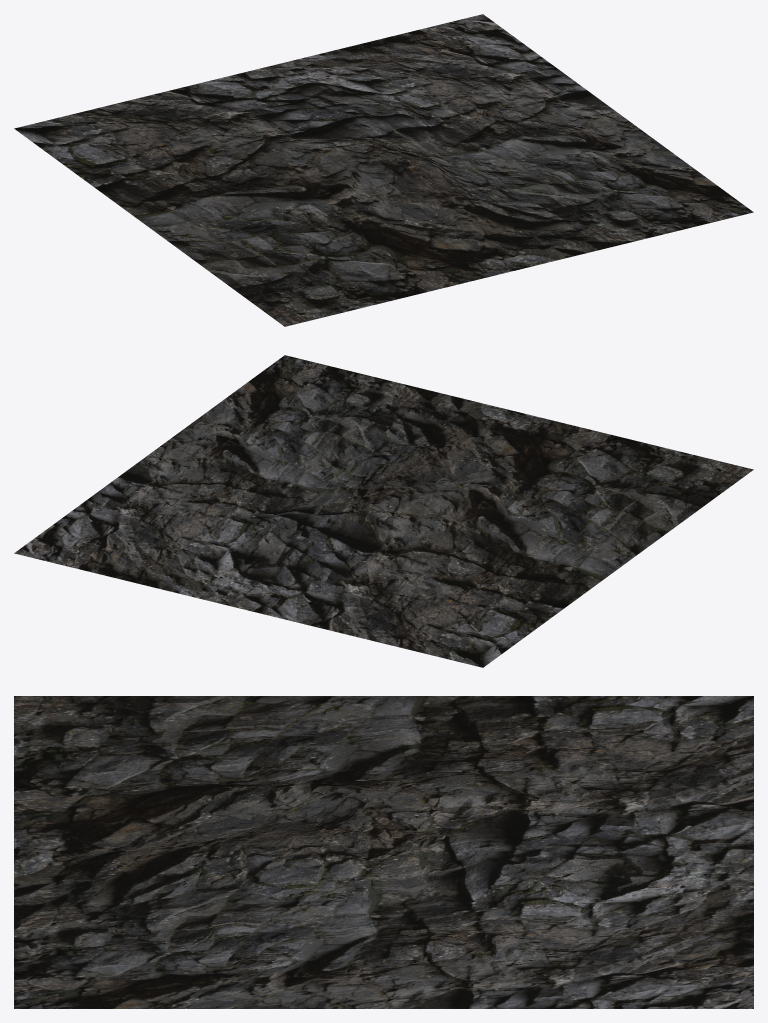
Rendered from terrain.gltf.
The picture shows the model from 3 angles, top to bottom: view 1: azimuth 30°, elevation 25°; view 2: azimuth 150°, elevation 25°; view 3: azimuth 270°, elevation 25°; orthographic projection. The views are drawn at different scales.
Visible parts, largest first — view 1: Landscape.1; view 2: Landscape.1; view 3: Landscape.1.
Boxes of the visible parts, left/top/right/bottom form: Landscape.1: left=14, top=14, right=753, bottom=326; Landscape.1: left=14, top=355, right=753, bottom=667; Landscape.1: left=14, top=696, right=753, bottom=1008.
Size of the model in its own units: 10 by 0.4524 by 10.
Materials: 1 (1 with a texture image).
